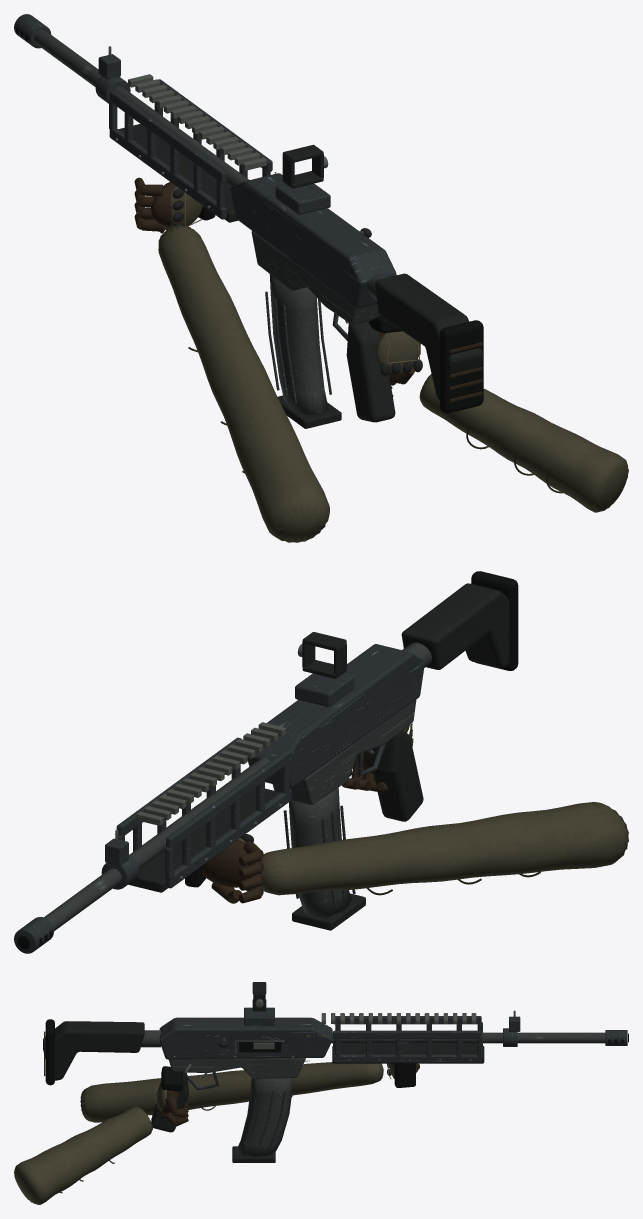
File: r7_view.glb
The picture shows the model from 3 angles, top to bottom: view 1: azimuth 30°, elevation 25°; view 2: azimuth 150°, elevation 25°; view 3: azimuth 270°, elevation 25°; orthographic projection. The views are drawn at different scales.
Parts seen in each view (by area): view 1: R7_Carbine_mesh, LeftSleeve_mesh, RightSleeve_mesh, Magazine_mesh, LeftHand_mesh, RightHand_mesh; view 2: R7_Carbine_mesh, LeftSleeve_mesh, Magazine_mesh, LeftHand_mesh, RightHand_mesh; view 3: R7_Carbine_mesh, LeftSleeve_mesh, RightSleeve_mesh, Magazine_mesh, RightHand_mesh, LeftHand_mesh.
Boxes of the visible parts, x1,y1,x2,y2 form: R7_Carbine_mesh: (14,14,483,422); LeftSleeve_mesh: (158,225,329,542); RightSleeve_mesh: (419,374,628,512); Magazine_mesh: (265,274,341,428); LeftHand_mesh: (134,177,215,233); RightHand_mesh: (368,316,422,385); R7_Carbine_mesh: (14,571,518,953); LeftSleeve_mesh: (260,802,628,895); Magazine_mesh: (283,787,365,930); LeftHand_mesh: (185,834,263,903); RightHand_mesh: (342,749,388,792); R7_Carbine_mesh: (43,982,628,1132); LeftSleeve_mesh: (80,1062,383,1122); RightSleeve_mesh: (14,1107,152,1204); Magazine_mesh: (232,1078,293,1162); RightHand_mesh: (155,1066,188,1126); LeftHand_mesh: (387,1063,419,1087).
Bounding box in the file's own units: 0.5349 × 0.4339 × 1.38.
Materials: 1 (1 with a texture image).
